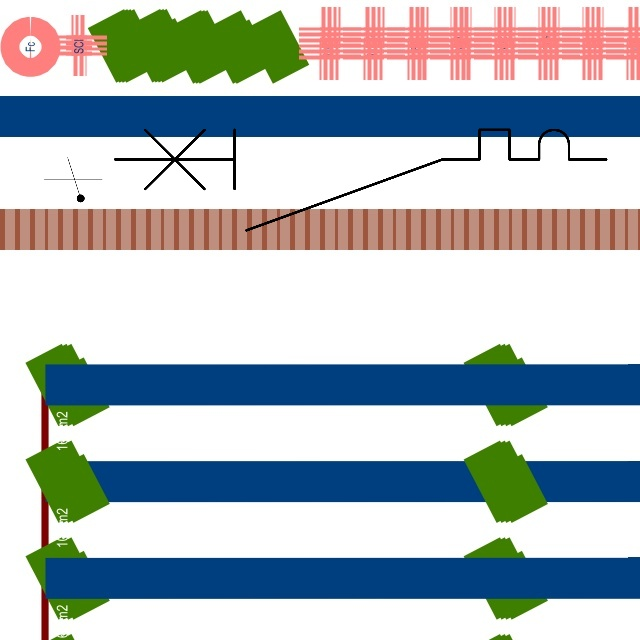interruptor_termomagnetico: (102, 117, 618, 243)
